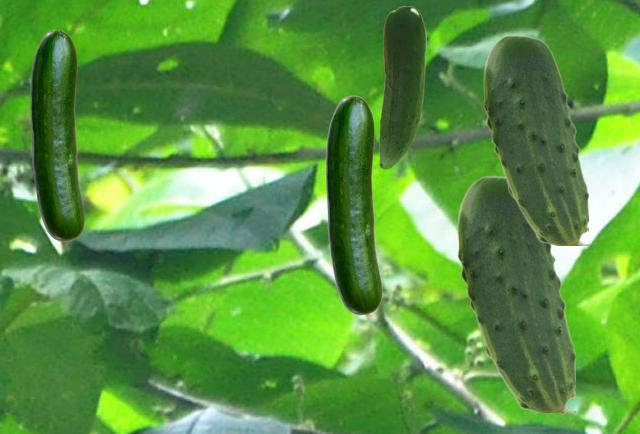cucumber: (457, 175, 574, 411), (483, 34, 587, 244), (325, 95, 381, 314), (30, 30, 83, 240), (379, 6, 425, 168)
